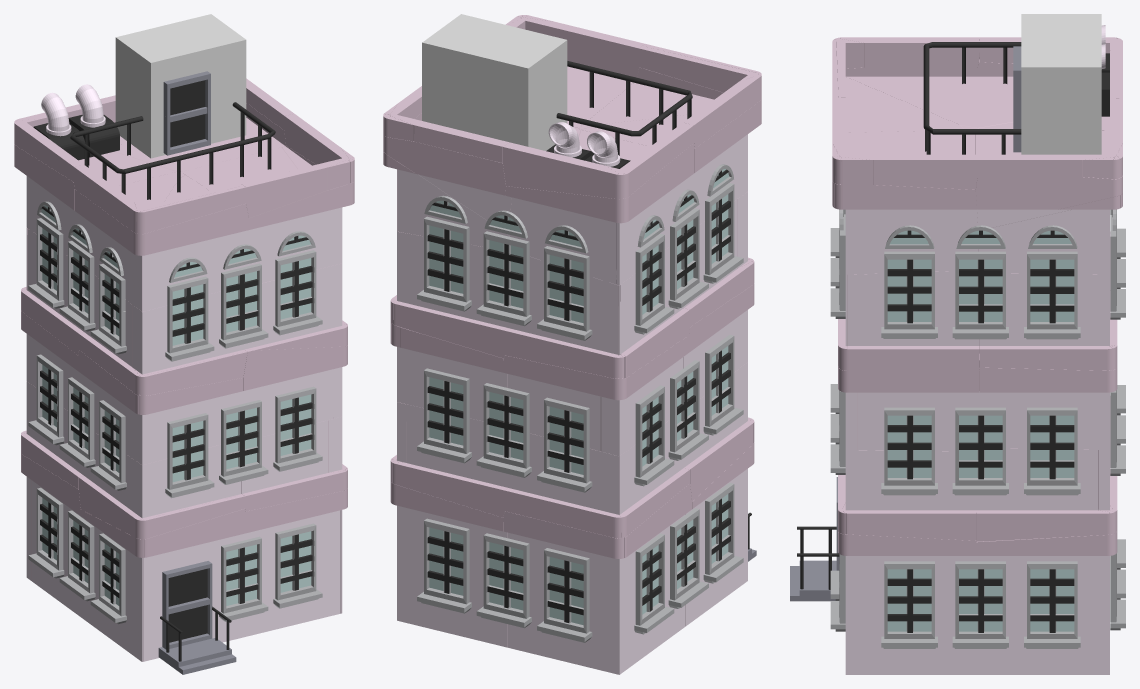
The model's file is parcalbina.fbx.
The picture shows the model from 3 angles, left to right: view 1: azimuth 30°, elevation 25°; view 2: azimuth 150°, elevation 25°; view 3: azimuth 270°, elevation 25°; orthographic projection. The views are drawn at different scales.
Parts seen in each view (by area): view 1: Cube.158, kolonlar_cell.049, kolonlar_cell.071, kolonlar_cell.019, kolonlar_cell.039, kolonlar_cell.096, kolonlar_cell.024, kolonlar_cell.033, kolonlar_cell.022, kolonlar_cell.072, kolonlar_cell.078, kolonlar_cell.079 (+64 smaller); view 2: Cube.158, kolonlar_cell.075, kolonlar_cell.005, kolonlar_cell.036, kolonlar_cell.006, kolonlar_cell.016, kolonlar_cell.045, kolonlar_cell.042, kolonlar_cell.071, kolonlar_cell.040, kolonlar_cell.038, kolonlar_cell.072 (+68 smaller); view 3: kolonlar_cell.012, Cube.158, kolonlar_cell.005, kolonlar_cell.074, kolonlar_cell.057, kolonlar_cell.097, kolonlar_cell.027, kolonlar_cell.068, kolonlar_cell.071, kolonlar_cell.086, kolonlar_cell.040, kolonlar_cell.067 (+55 smaller).
Part boxes in pixels (x1,y1,x2,y2): Cube.158: (115, 14, 246, 158); kolonlar_cell.049: (242, 491, 343, 637); kolonlar_cell.071: (182, 113, 348, 218); kolonlar_cell.019: (142, 175, 248, 311); kolonlar_cell.039: (144, 508, 245, 661); kolonlar_cell.096: (79, 432, 241, 537); kolonlar_cell.024: (240, 346, 345, 436); kolonlar_cell.033: (243, 183, 352, 282); kolonlar_cell.022: (138, 378, 243, 465); kolonlar_cell.072: (14, 144, 176, 255); kolonlar_cell.078: (74, 172, 176, 311); kolonlar_cell.079: (241, 420, 344, 511); Cube.158: (422, 14, 567, 150); kolonlar_cell.075: (503, 511, 618, 672); kolonlar_cell.005: (397, 505, 507, 647); kolonlar_cell.036: (504, 256, 618, 378); kolonlar_cell.006: (393, 232, 508, 358); kolonlar_cell.016: (505, 186, 626, 284); kolonlar_cell.045: (504, 433, 617, 537); kolonlar_cell.042: (392, 404, 508, 517); kolonlar_cell.071: (507, 18, 644, 127); kolonlar_cell.040: (383, 113, 579, 235); kolonlar_cell.038: (397, 327, 507, 421); kolonlar_cell.072: (578, 130, 694, 285); kolonlar_cell.012: (841, 533, 976, 674); Cube.158: (1021, 14, 1101, 154); kolonlar_cell.005: (976, 556, 1109, 674); kolonlar_cell.074: (841, 185, 978, 274); kolonlar_cell.057: (842, 450, 976, 540); kolonlar_cell.097: (847, 271, 979, 370); kolonlar_cell.027: (976, 448, 1109, 541); kolonlar_cell.068: (979, 273, 1112, 370); kolonlar_cell.071: (832, 97, 977, 189); kolonlar_cell.086: (843, 370, 978, 451); kolonlar_cell.040: (975, 130, 1122, 227); kolonlar_cell.067: (978, 196, 1116, 274).
Bounding box in the file's own units: 493 × 1103 × 562.
